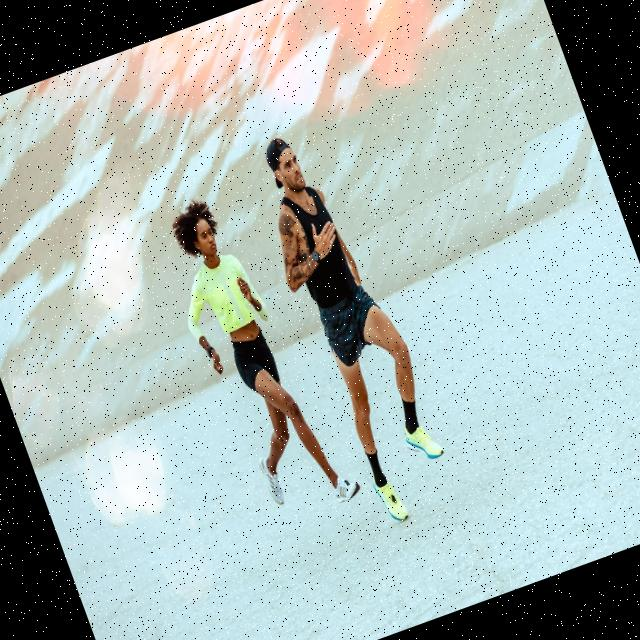Person: (240, 120, 464, 532), (148, 179, 364, 532)
